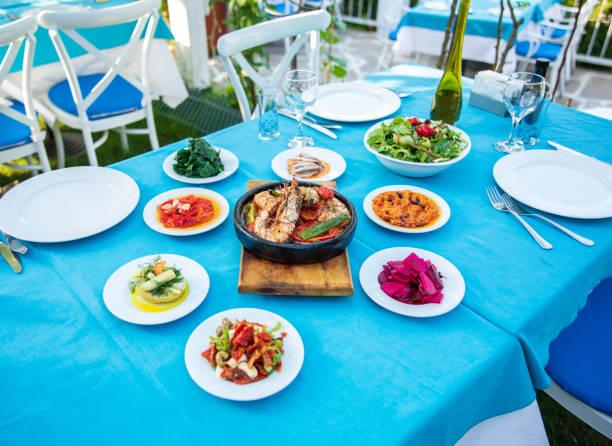Braised Crucian Carp: (183, 307, 311, 405), (232, 179, 356, 265), (102, 253, 209, 326), (359, 246, 467, 317), (364, 117, 470, 177), (363, 184, 452, 233), (143, 187, 229, 236), (161, 146, 239, 184), (271, 146, 346, 182)
